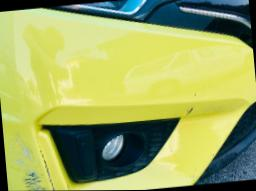Bumper: (1, 93, 201, 191)
